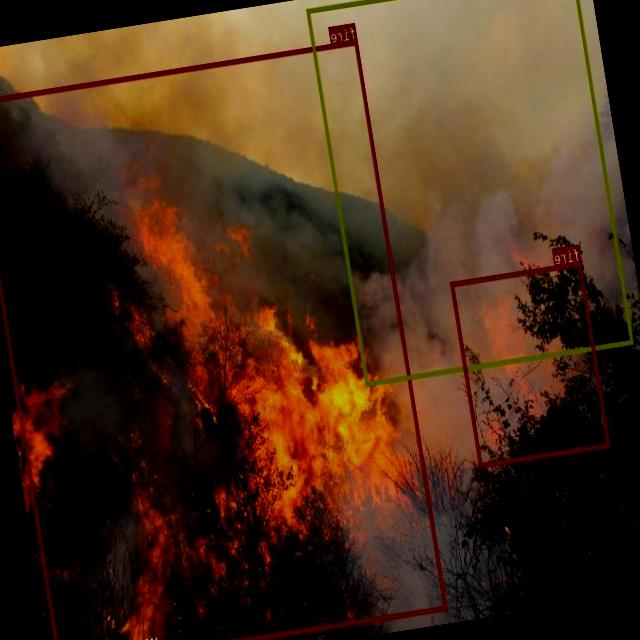fire: (0, 39, 447, 640), (450, 260, 612, 467)
smoke: (307, 0, 634, 385)
